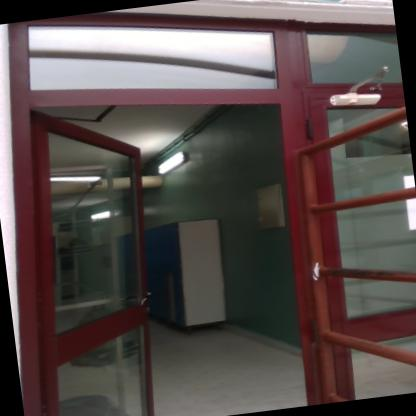semi: (3, 54, 329, 415)
